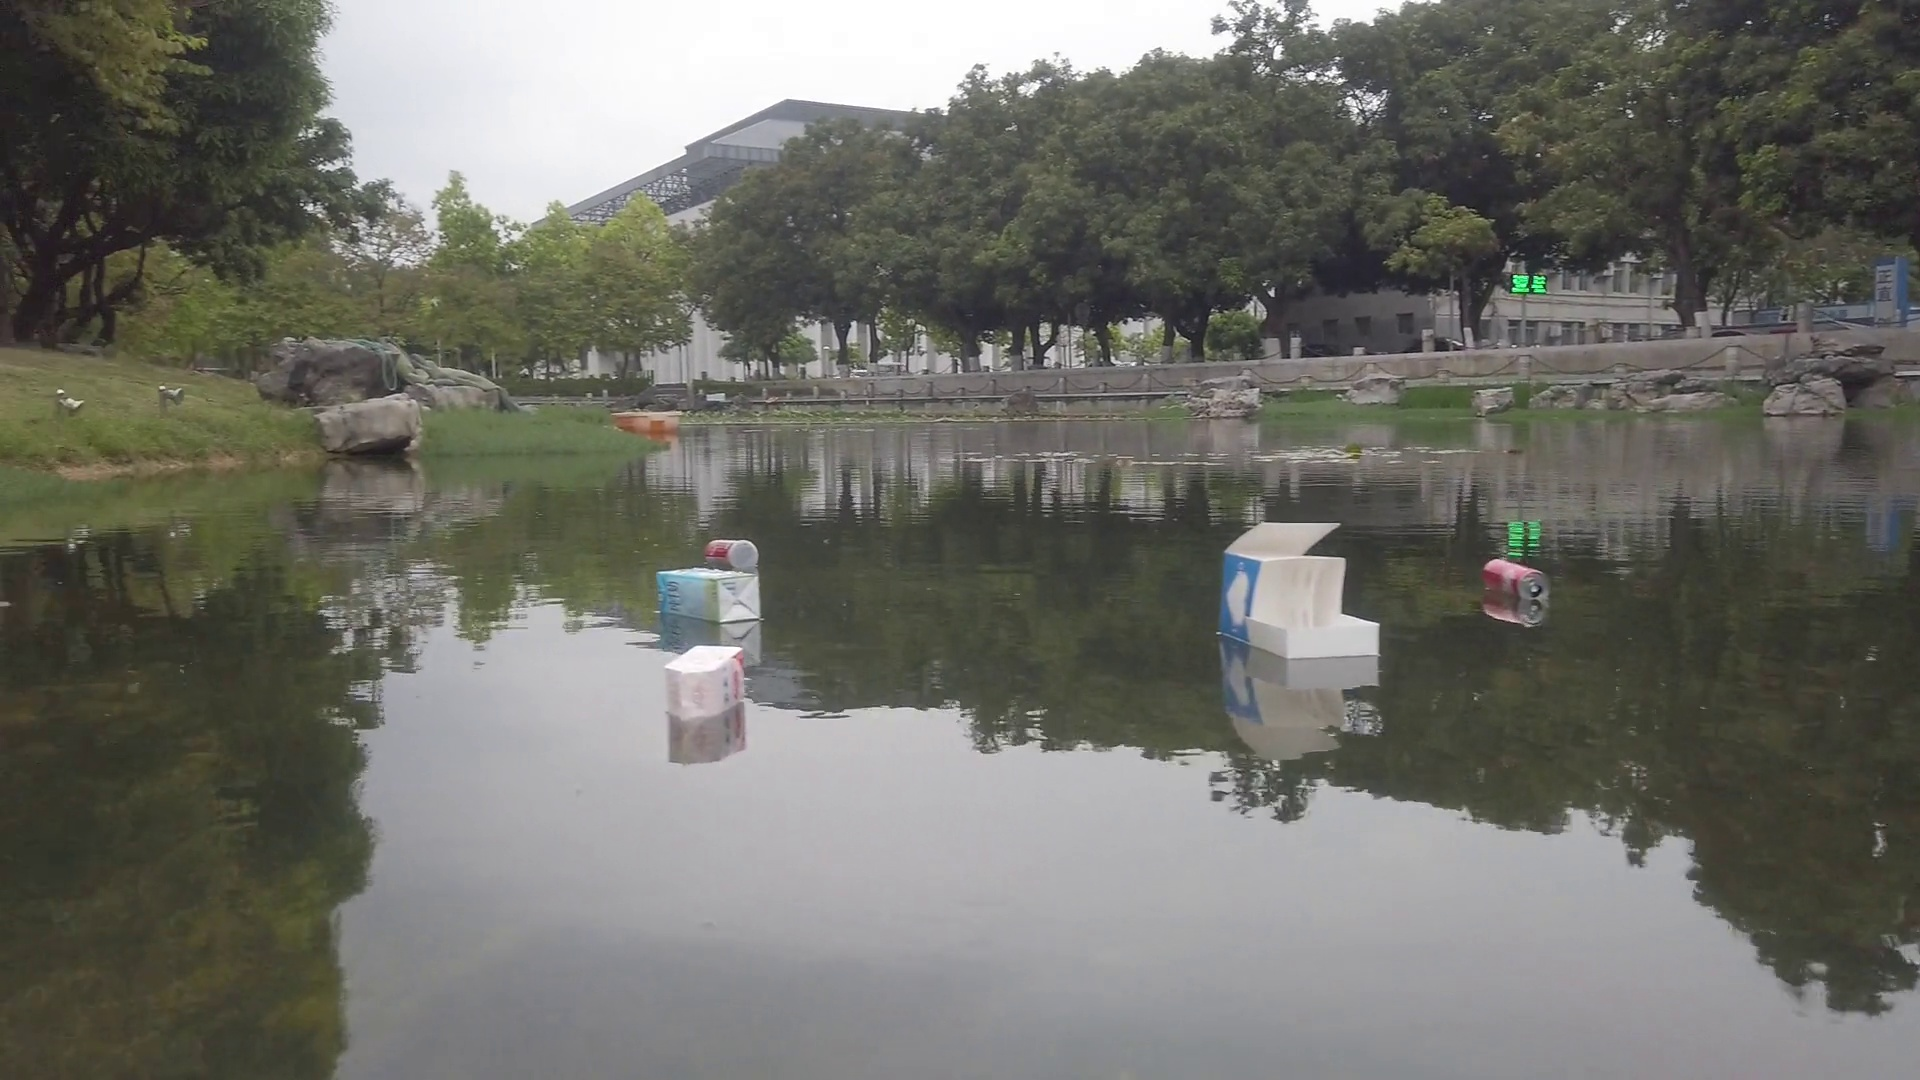bottle: (1482, 556, 1551, 603), (704, 535, 764, 570)
carton: (1225, 517, 1386, 657), (654, 562, 771, 628), (666, 636, 753, 715)
